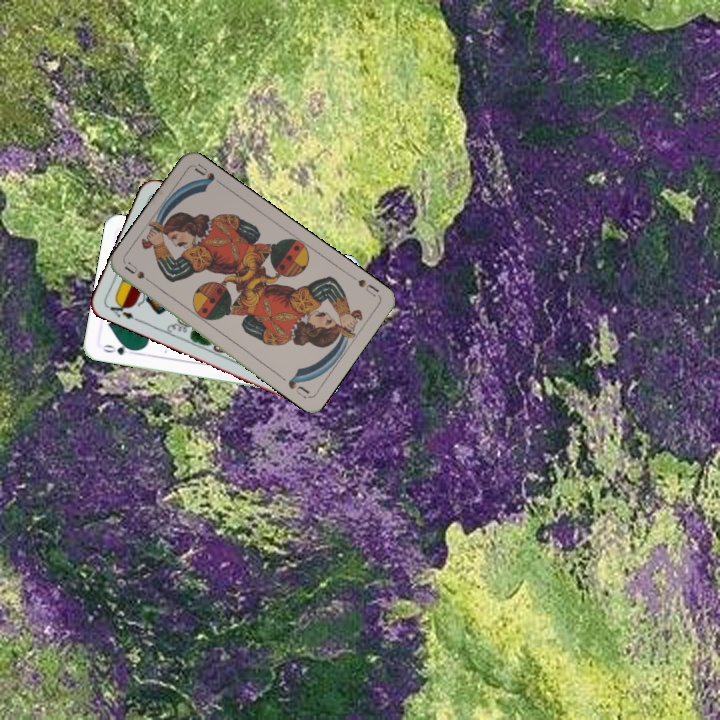EA: (106, 297, 142, 324)
GO: (98, 340, 138, 358)
SU: (121, 258, 158, 288), (347, 272, 382, 299)
